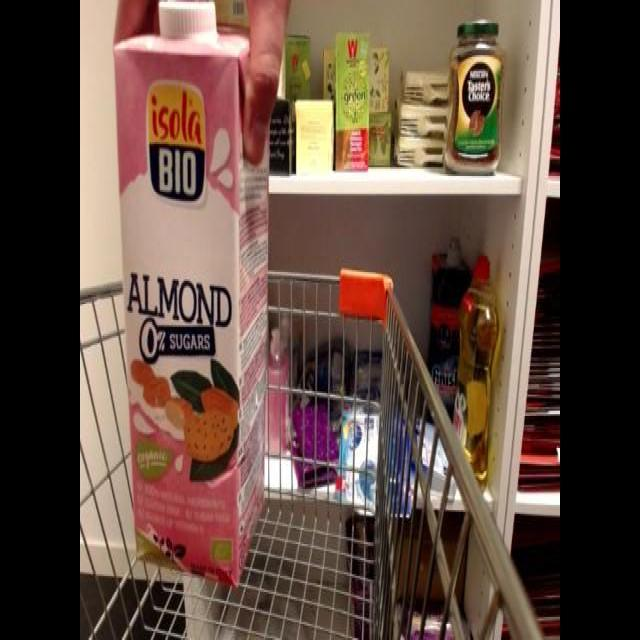Almond Milk: (109, 1, 274, 596)
